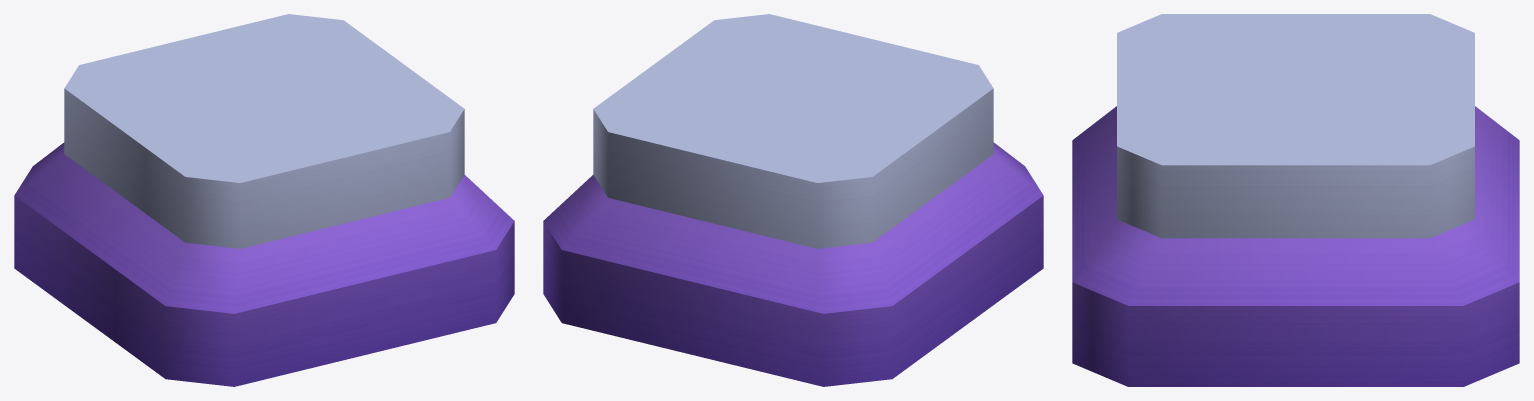
File: tower-square-bottom-a.fbx
3 renders of one model, left to right at view 1: azimuth 30°, elevation 25°; view 2: azimuth 150°, elevation 25°; view 3: azimuth 270°, elevation 25°, orthographic. The views are drawn at different scales.
Visible parts, largest first — view 1: tower-square-bottom-a; view 2: tower-square-bottom-a; view 3: tower-square-bottom-a.
Part boxes in pixels (x1=…): tower-square-bottom-a: x1=14, y1=14, x2=514, y2=386; tower-square-bottom-a: x1=543, y1=14, x2=1043, y2=386; tower-square-bottom-a: x1=1072, y1=14, x2=1519, y2=386.
Size of the model in its own units: 100 by 50 by 100.
